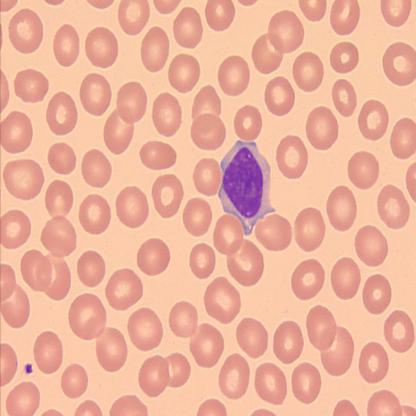Atypical lymphocyte: (220, 138, 278, 234)
